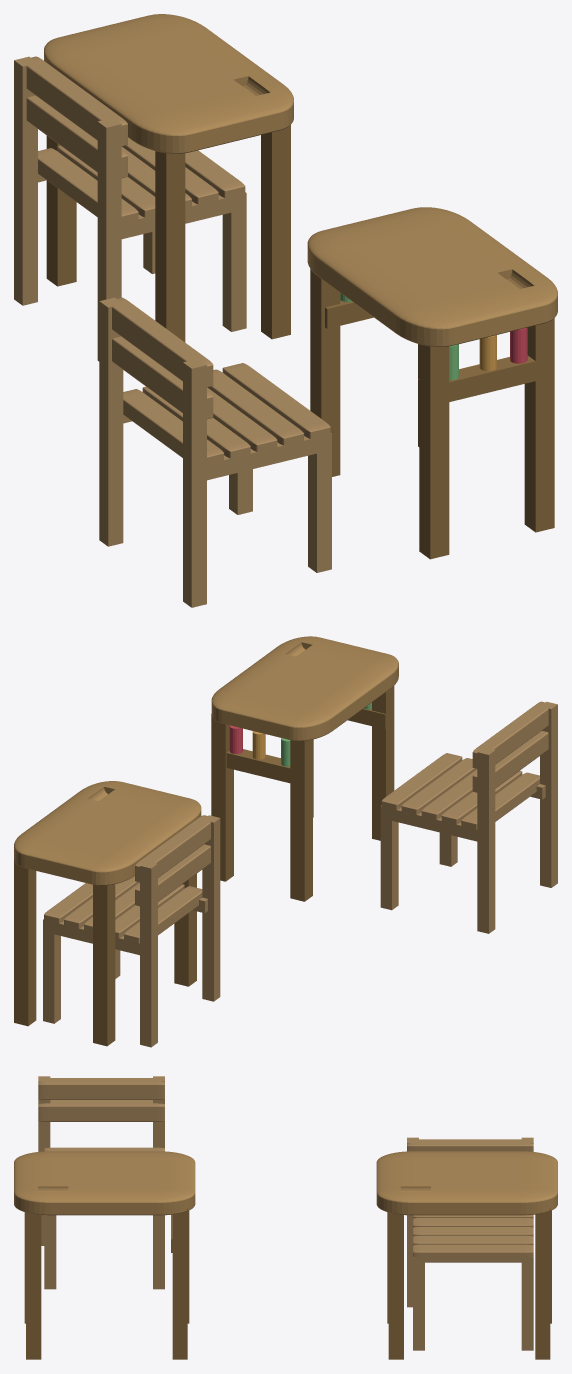
File: asset.glb
3 views of the same model, one above another, from view 1: azimuth 30°, elevation 25°; view 2: azimuth 150°, elevation 25°; view 3: azimuth 270°, elevation 25° (orthographic). The views are drawn at different scales.
Parts seen in each view (by area): view 1: Mesh_Mesh_head_geo.001_lambert2SG.001; view 2: Mesh_Mesh_head_geo.001_lambert2SG.001; view 3: Mesh_Mesh_head_geo.001_lambert2SG.001.
Part boxes in pixels (x1=…): Mesh_Mesh_head_geo.001_lambert2SG.001: x1=14, y1=14, x2=557, y2=607; Mesh_Mesh_head_geo.001_lambert2SG.001: x1=14, y1=636, x2=557, y2=1047; Mesh_Mesh_head_geo.001_lambert2SG.001: x1=14, y1=1076, x2=557, y2=1359.
Bounding box in the file's own units: 48 × 30 × 90.
